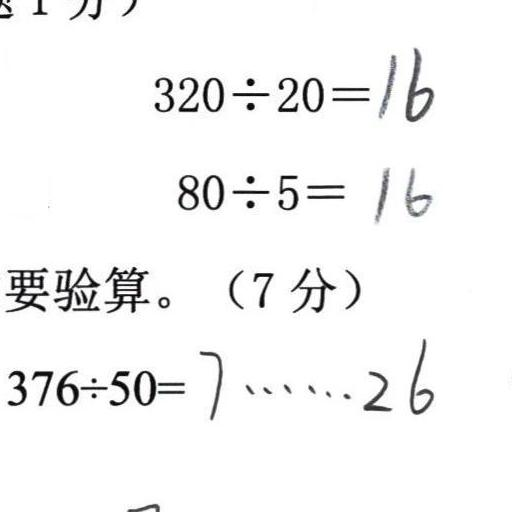ans: (194, 338, 434, 421), (373, 42, 434, 123), (367, 159, 431, 223)
